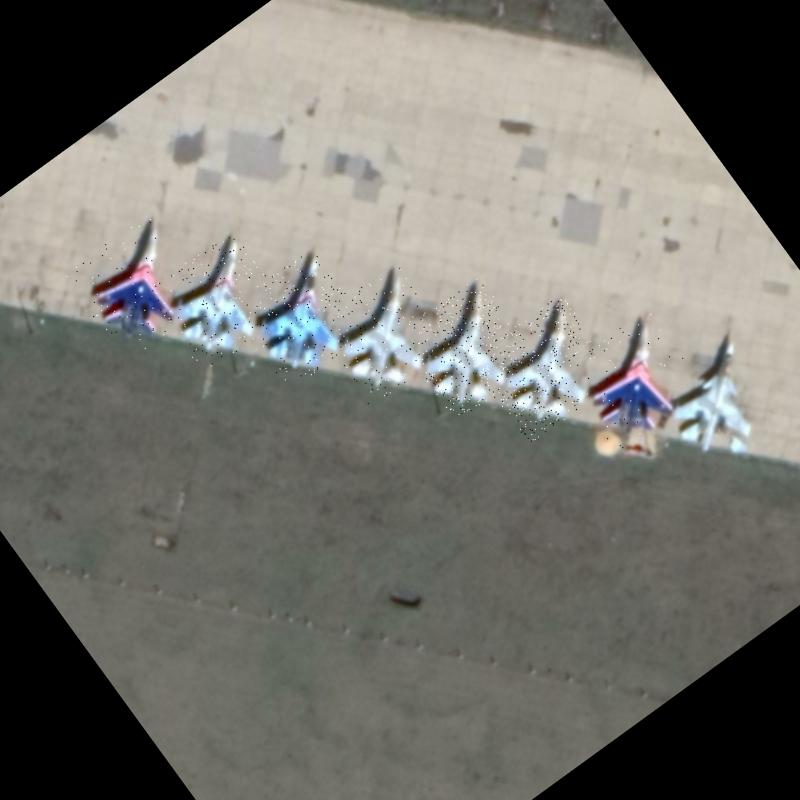A1: (62, 208, 216, 362), (468, 293, 622, 445), (557, 304, 709, 457), (309, 260, 458, 409), (393, 275, 542, 423), (144, 227, 294, 374), (228, 244, 375, 390)
A19: (631, 324, 798, 489)
